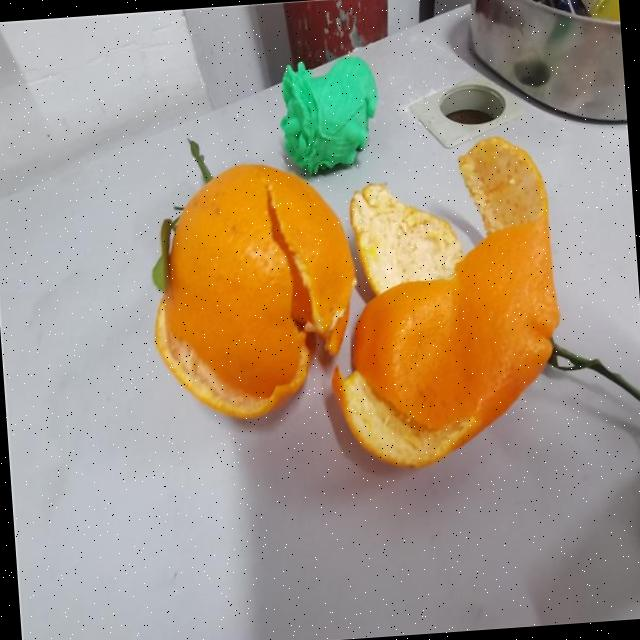orange-peel: (320, 212, 570, 473), (142, 153, 365, 424)
